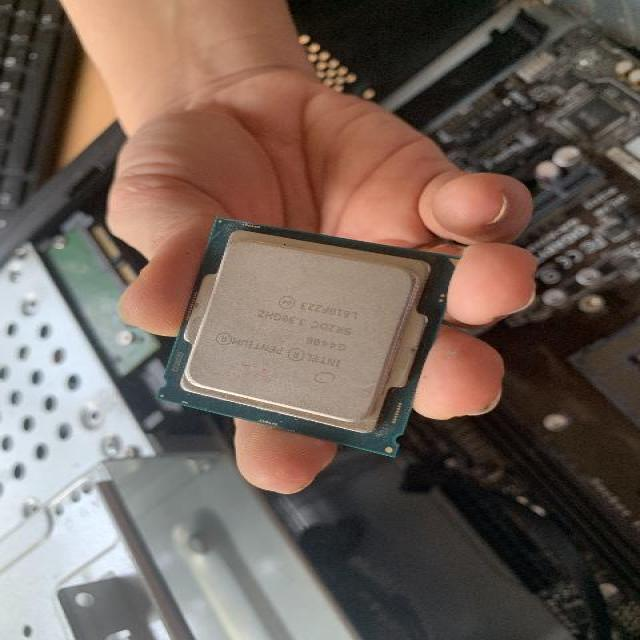CPU: (158, 216, 462, 460)
